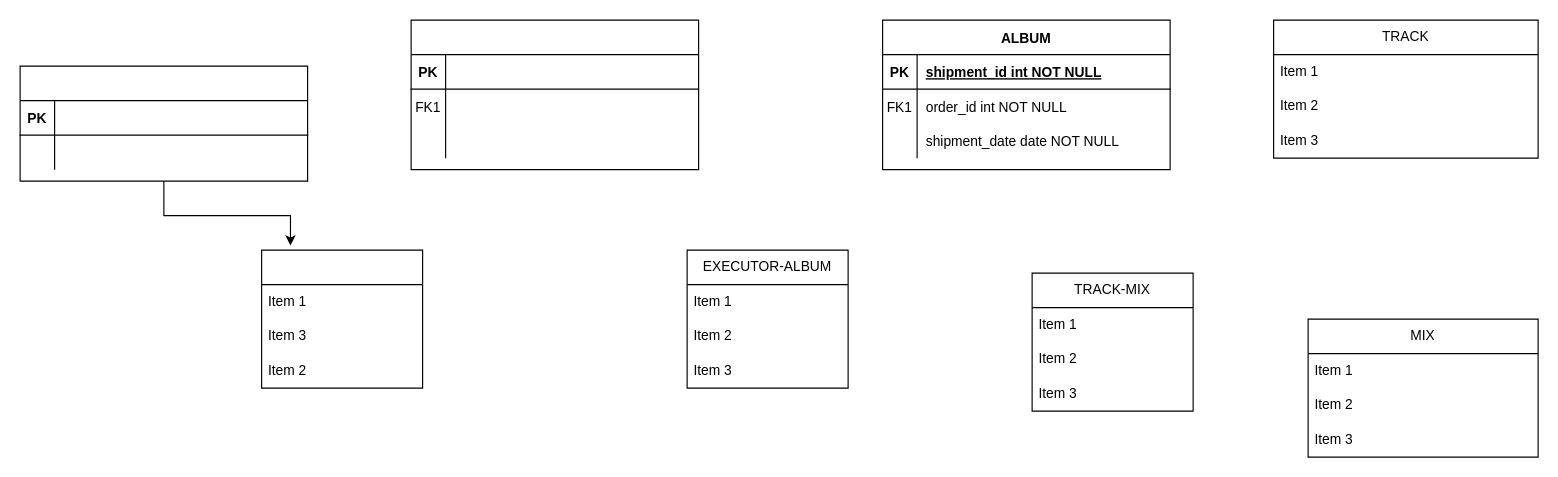
This 1558x477 diagram has some shape labels left out. Here are the shapes that lost their labels. From the top down, the box of each, then its label:
(410, 19, 699, 170): EXECUTOR (ИСПОЛНИТЕЛЬ)
(19, 65, 308, 181): GANR
(260, 249, 423, 388): GANR-EXECUTOR
